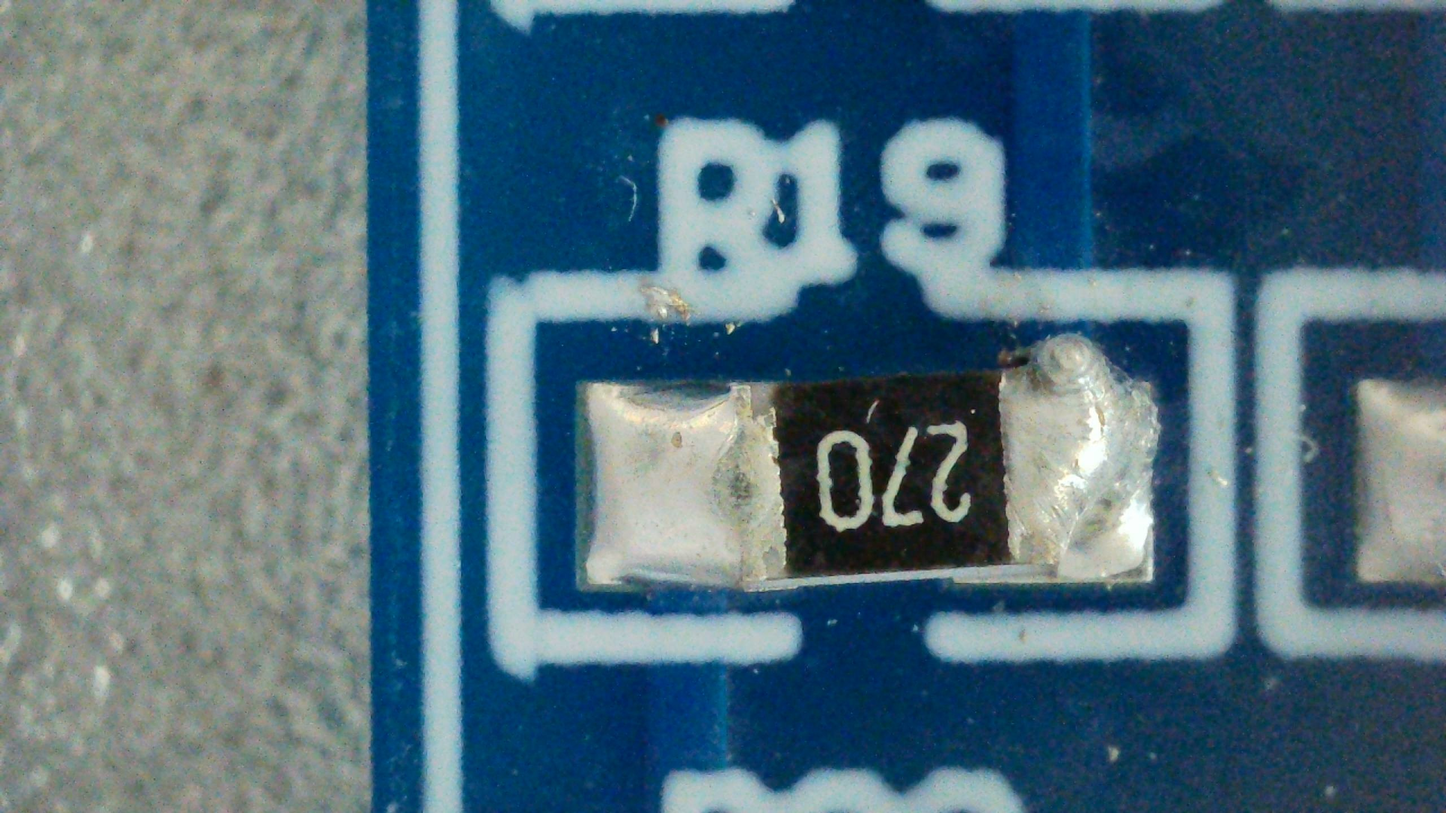OK: (576, 339, 1160, 594)
